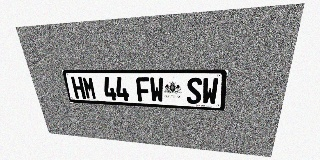4: (114, 77, 129, 101), (102, 77, 117, 100)
F: (136, 77, 151, 102)
H: (71, 76, 86, 99)
M: (82, 77, 97, 99)
S: (187, 77, 202, 104)
W: (202, 78, 219, 105), (149, 77, 164, 102)
